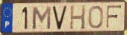1: (21, 6, 29, 30)
F: (106, 5, 123, 29)
H: (69, 4, 87, 31)
M: (31, 5, 52, 31)
O: (88, 5, 104, 29)
V: (52, 5, 68, 31)
